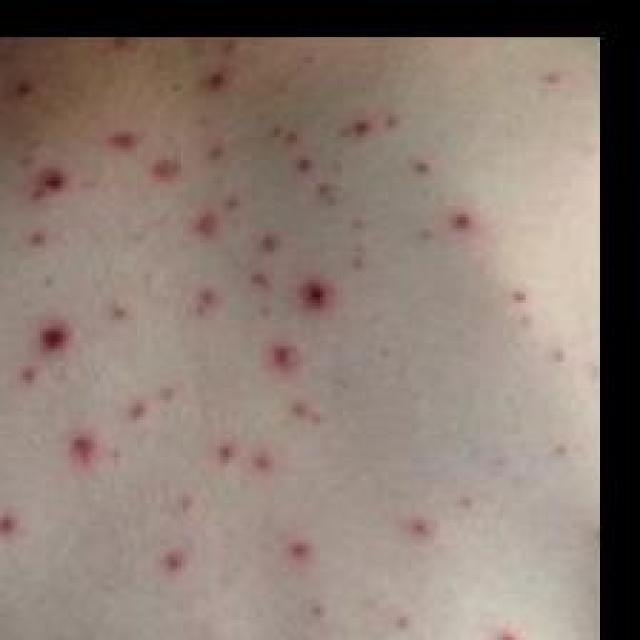others: (0, 34, 591, 639)
